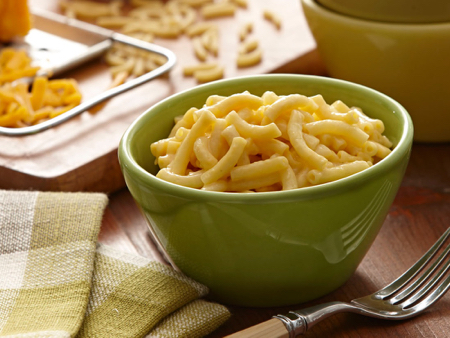macncheese: (135, 80, 397, 199)
